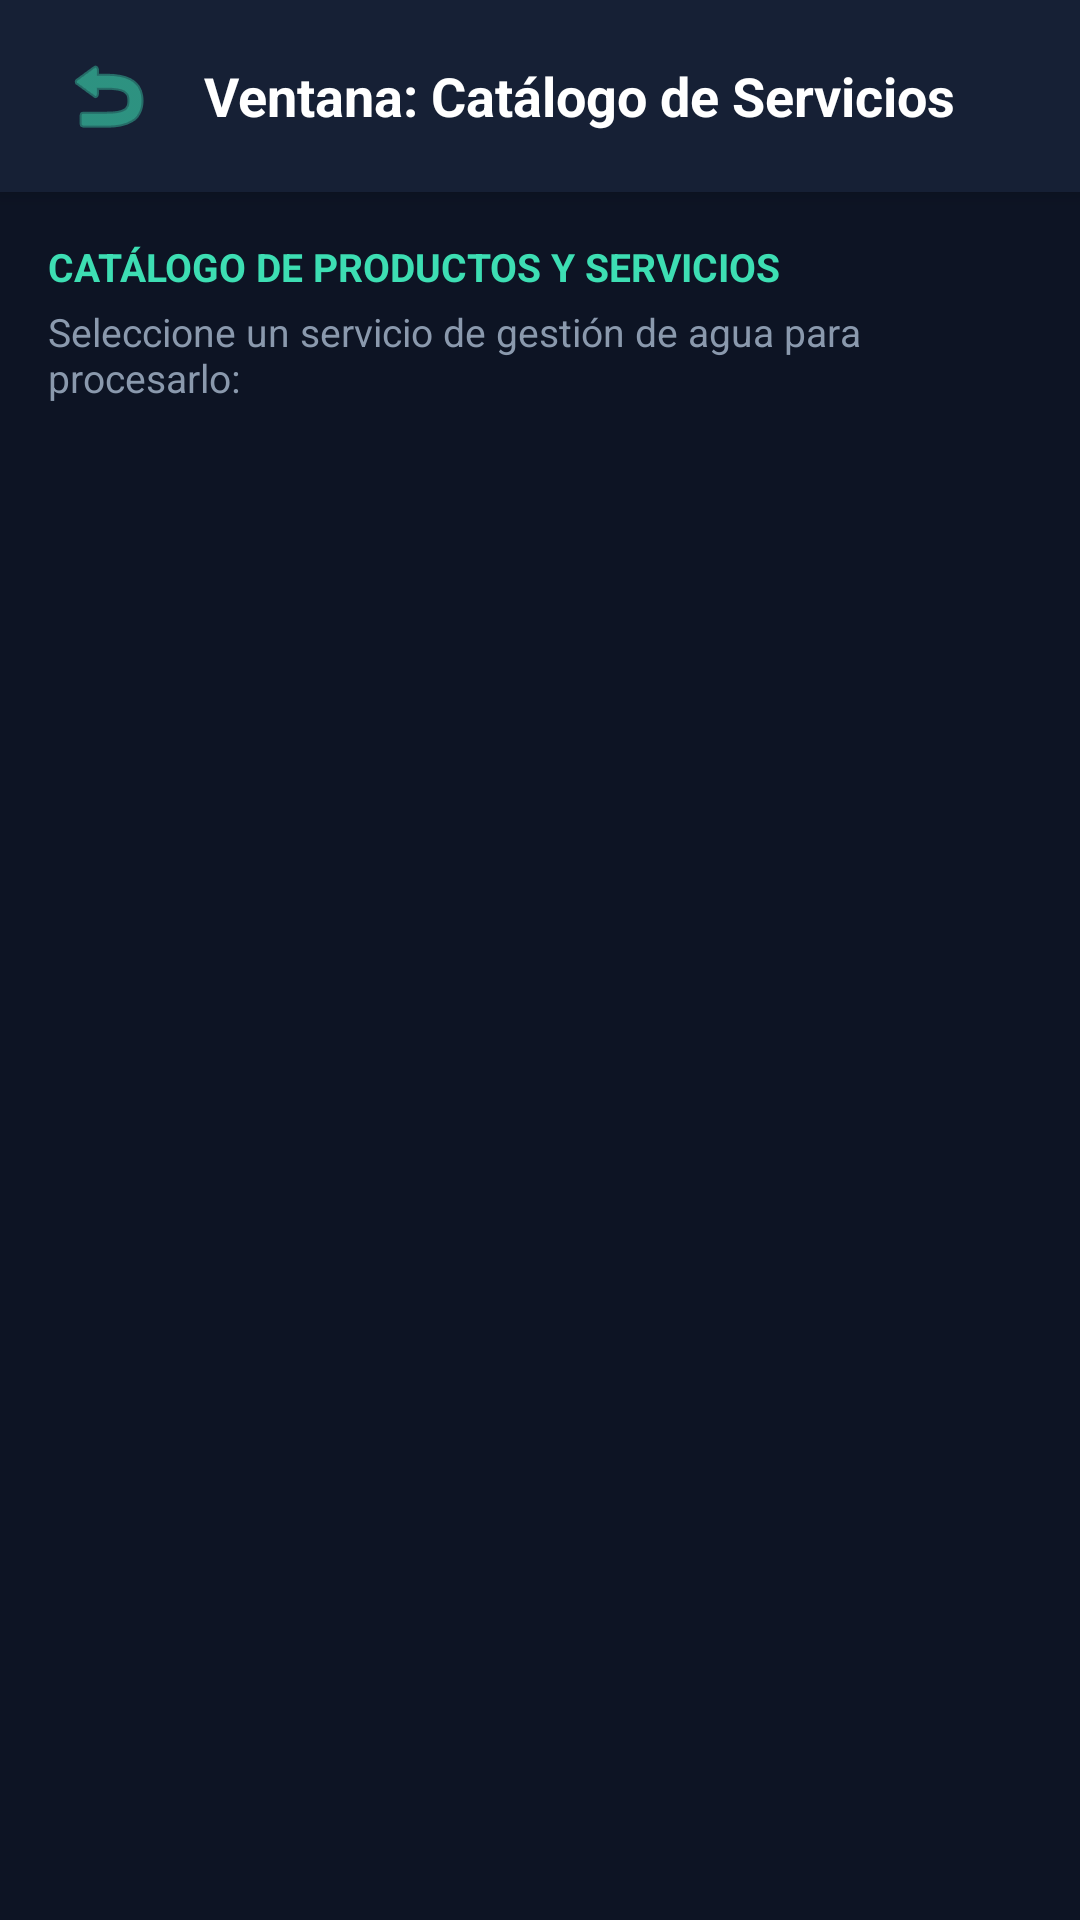

Where to tap for icons on this 1080 × 1920 app screen, as (x=x, y=y):
Volver: (x=109, y=96)
